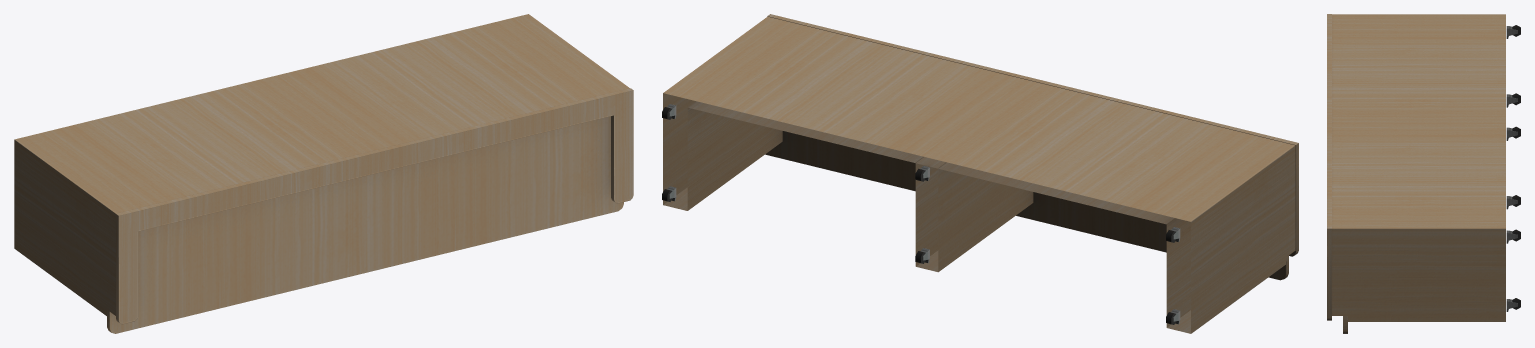
File: NurseTable.obj
3 views of the same model, side by side, from view 1: azimuth 30°, elevation 25°; view 2: azimuth 150°, elevation 25°; view 3: azimuth 270°, elevation 25° (orthographic). The views are drawn at different scales.
Parts seen in each view (by area): view 1: NurseTable_Cube.005; view 2: NurseTable_Cube.005; view 3: NurseTable_Cube.005.
Boxes of the visible parts, box(x1,y1,x2,y2) form: NurseTable_Cube.005: box(14, 14, 633, 333); NurseTable_Cube.005: box(662, 14, 1298, 333); NurseTable_Cube.005: box(1327, 14, 1520, 333).
Size of the model in its own units: 2.46 by 0.5775 by 0.9396.
1 material, 1 textured.
